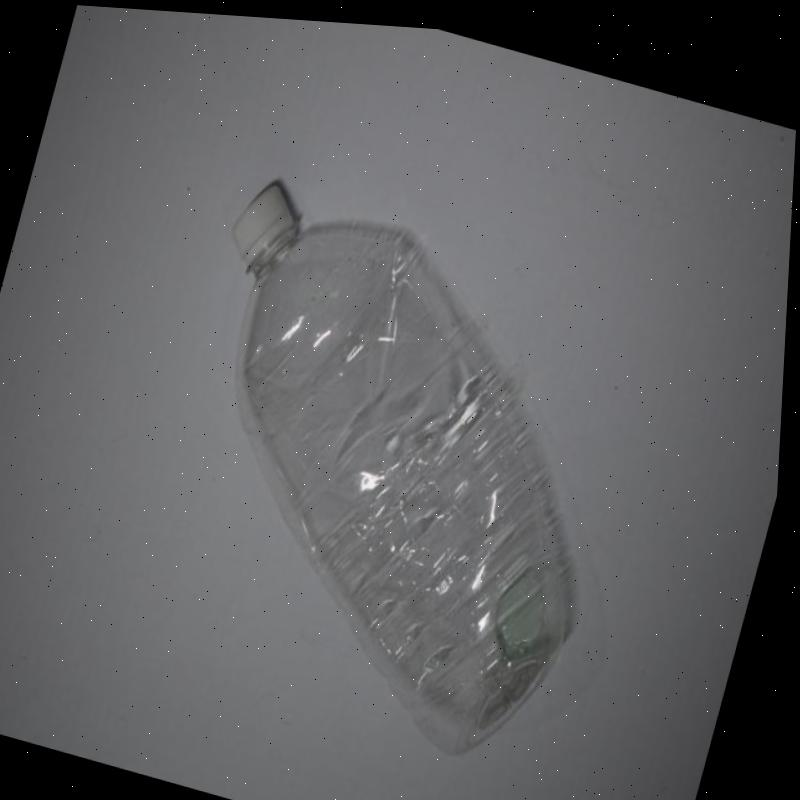botella: (113, 160, 666, 778)
